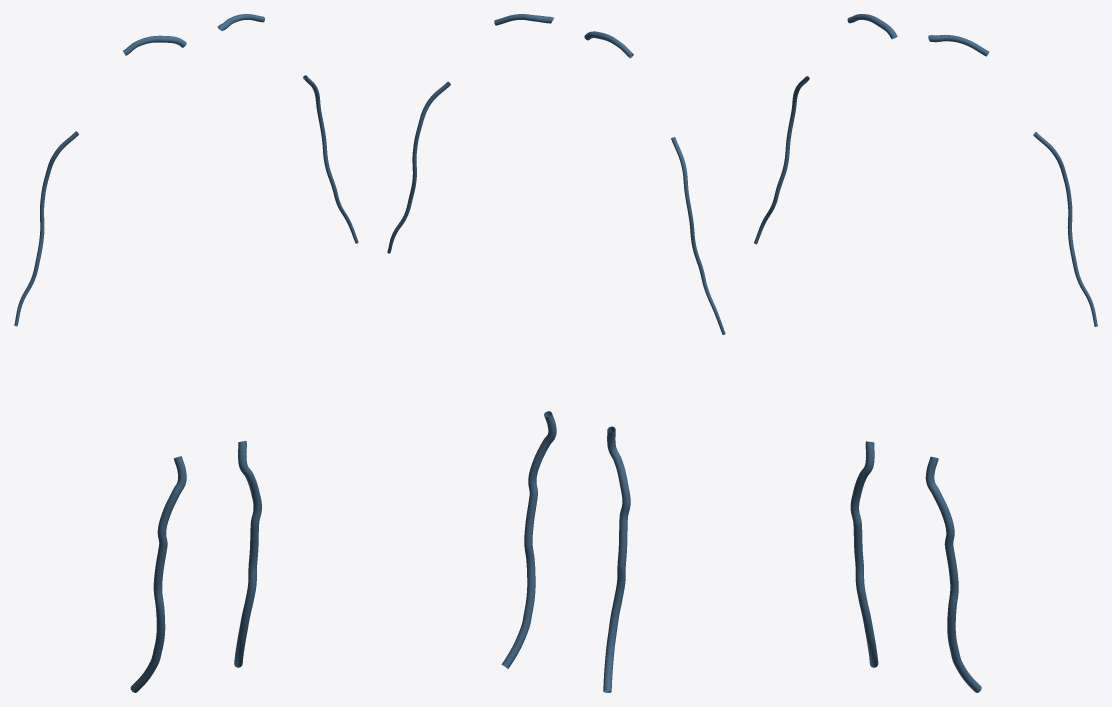
The model's file is venous-balanced.glb.
3 views of the same model, side by side, from view 1: azimuth 30°, elevation 25°; view 2: azimuth 150°, elevation 25°; view 3: azimuth 330°, elevation 25° (orthographic).
Visible parts, largest first — view 1: za.femoral-vein-r, za.femoral-vein-l, za.brachial-veins-r, za.brachial-veins-l; view 2: za.femoral-vein-r, za.femoral-vein-l, za.brachial-veins-r, za.brachial-veins-l; view 3: za.femoral-vein-l, za.femoral-vein-r, za.brachial-veins-l, za.brachial-veins-r.
Boxes of the visible parts, x1,y1,x2,y2 form: za.femoral-vein-r: (130,456,186,692); za.femoral-vein-l: (234,441,261,667); za.brachial-veins-r: (14,131,78,326); za.brachial-veins-l: (303,75,358,243); za.femoral-vein-r: (603,426,630,692); za.femoral-vein-l: (501,411,556,668); za.brachial-veins-r: (671,137,725,334); za.brachial-veins-l: (387,81,450,253); za.femoral-vein-l: (925,456,981,692); za.femoral-vein-r: (850,441,878,667); za.brachial-veins-l: (1033,132,1097,326); za.brachial-veins-r: (754,76,809,244).
Size of the model in its own units: 0.4637 by 0.8523 by 0.078.
